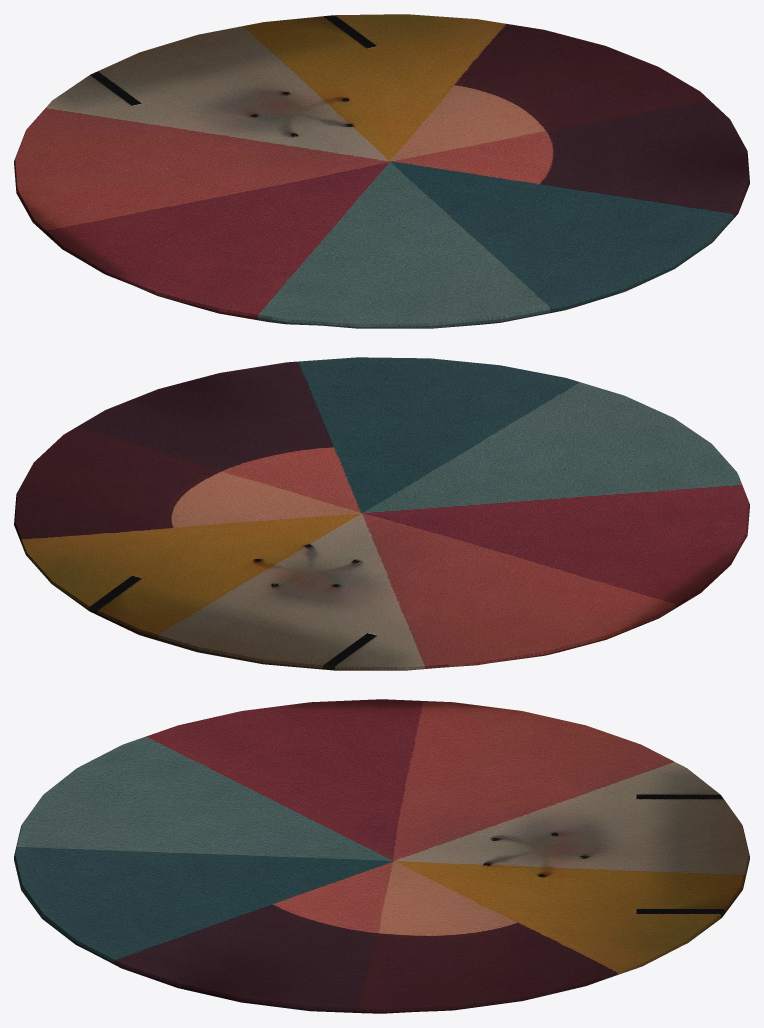
File: rug.glb
3 renders of one model, top to bottom at view 1: azimuth 30°, elevation 25°; view 2: azimuth 150°, elevation 25°; view 3: azimuth 270°, elevation 25°, orthographic.
Visible parts, largest first — view 1: roomrug; view 2: roomrug; view 3: roomrug.
Part boxes in pixels (x1=…): roomrug: x1=14, y1=14, x2=749, y2=328; roomrug: x1=14, y1=357, x2=749, y2=670; roomrug: x1=14, y1=699, x2=749, y2=1013.
Bounding box in the file's own units: 5.9 × 0.0532 × 5.9.
Materials: 1 (1 with a texture image).
